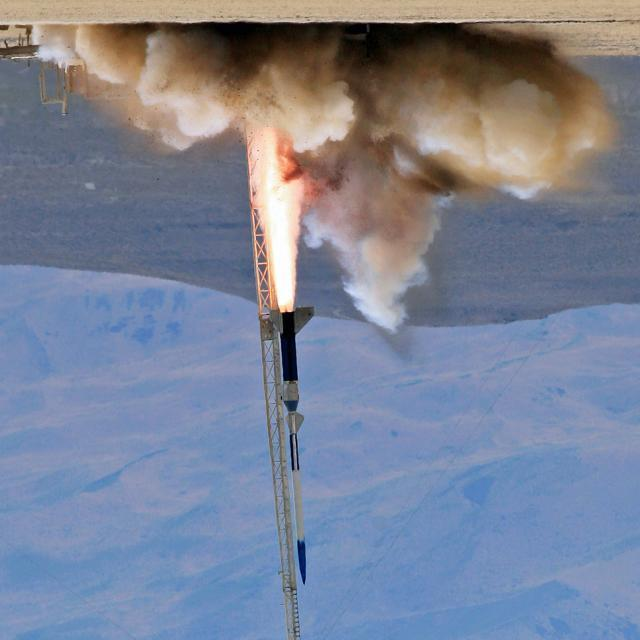missile: (262, 307, 368, 590)
